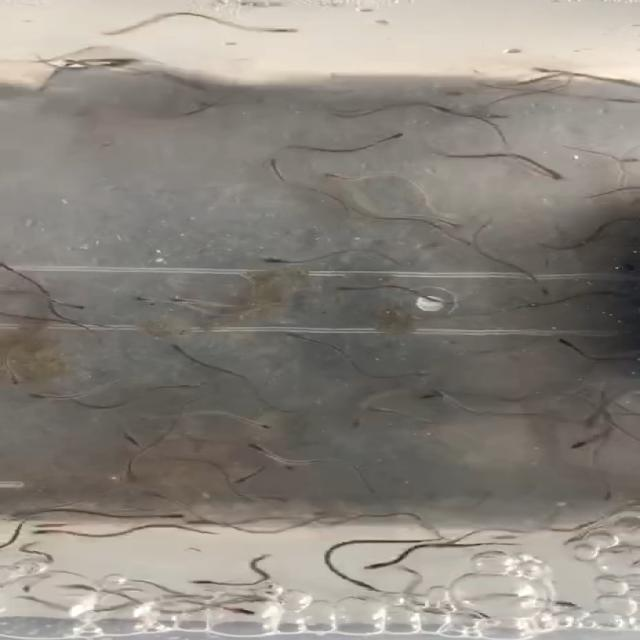active_glass_eel: (110, 493, 195, 530), (257, 13, 333, 51), (443, 400, 495, 446), (526, 582, 588, 617), (321, 396, 393, 426), (24, 385, 102, 409), (536, 330, 588, 366), (407, 383, 476, 410), (231, 410, 297, 437), (126, 436, 193, 461), (183, 294, 229, 328), (290, 332, 348, 358), (322, 512, 397, 532), (267, 160, 307, 197), (93, 288, 174, 306), (329, 570, 378, 597), (156, 342, 222, 362), (343, 275, 390, 303), (262, 244, 335, 262), (381, 549, 435, 573), (38, 290, 79, 319), (21, 564, 62, 592), (345, 126, 396, 148), (145, 378, 207, 396), (238, 445, 286, 464), (522, 60, 563, 82), (321, 163, 357, 188), (606, 84, 640, 110), (238, 465, 278, 486), (497, 149, 531, 170), (58, 54, 91, 70)
